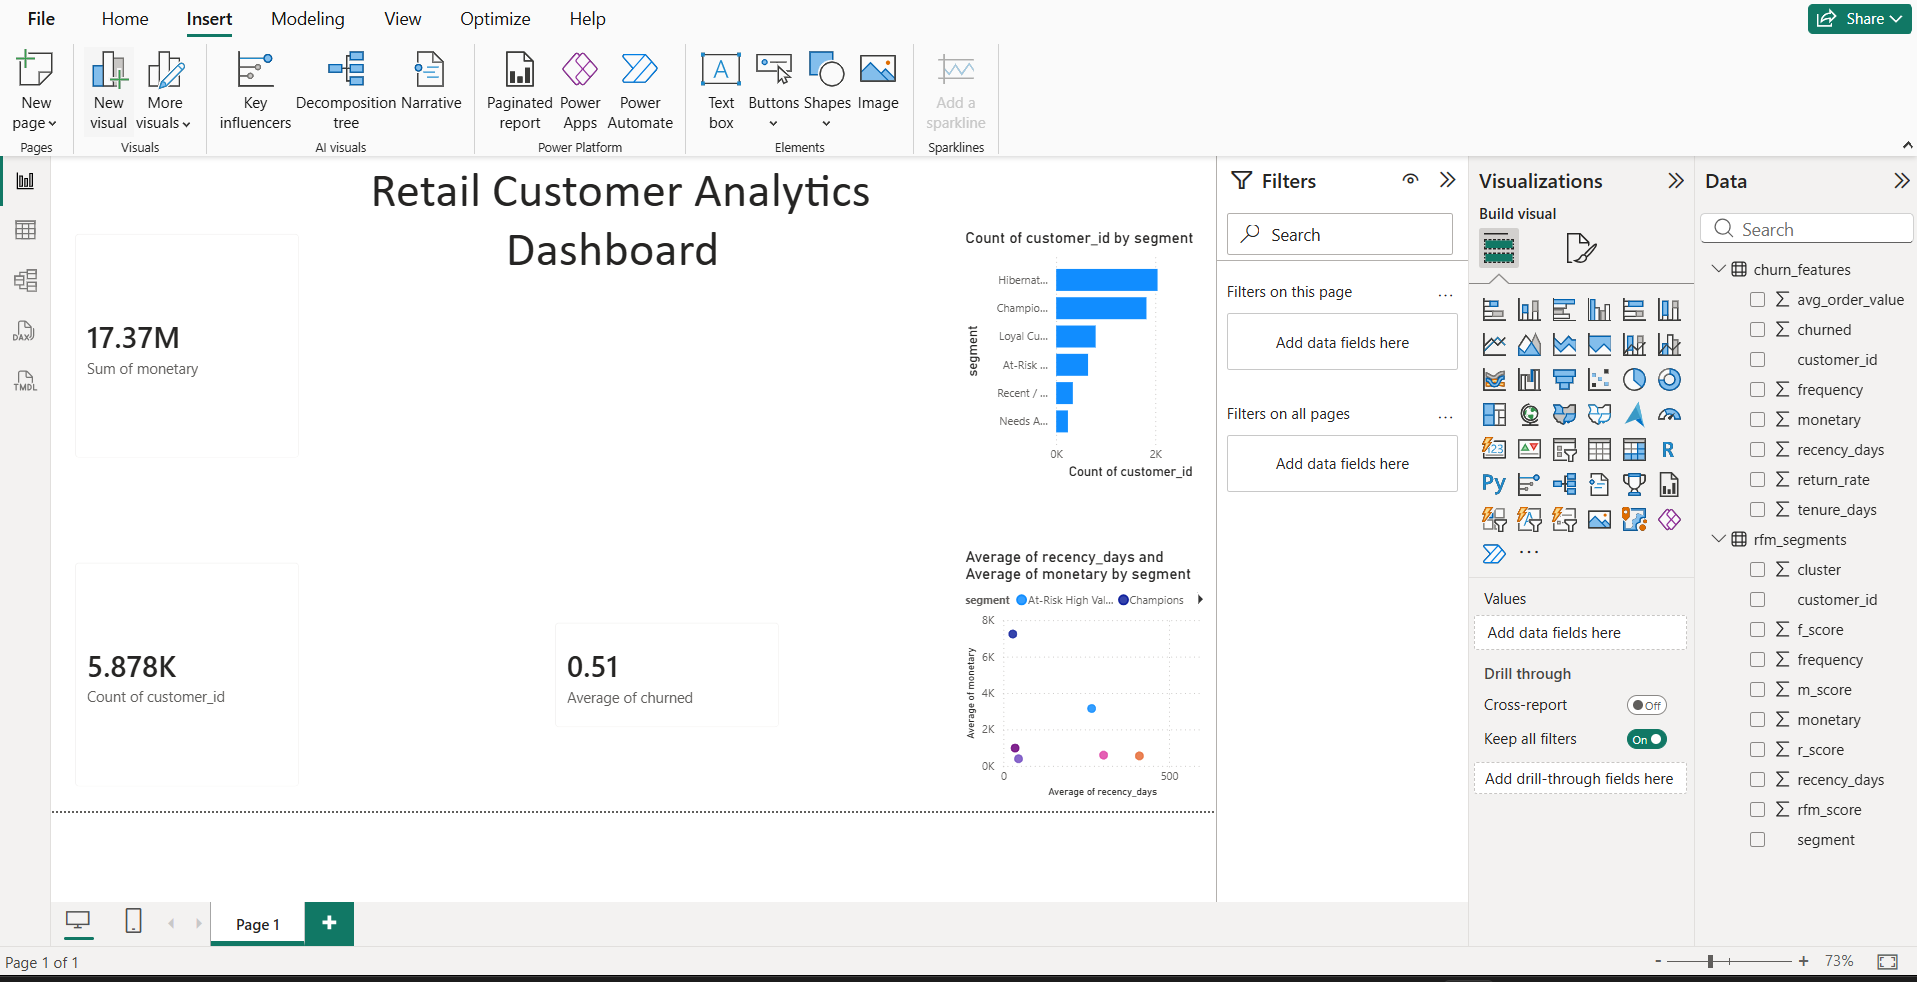

What the dashboard file says about the page in this screenshot:
{"tool":"powerbi","page":{"name":"Page 1","canvas":[1280,720],"ordinal":0},"visuals":[{"type":"cardVisual","fields":{"Data":["Sum(rfm_segments.monetary)"]},"box":[9.6,68.7,280.2,280.2],"z":0},{"type":"cardVisual","fields":{"Data":["CountNonNull(rfm_segments.customer_id)"]},"box":[9.6,430,280.2,280.2],"z":1},{"type":"cardVisual","fields":{"Data":["Avg(churn_features.churned)"]},"box":[537.1,495.9,280.2,149.7],"z":2},{"type":"clusteredBarChart","fields":{"Category":["rfm_segments.segment"],"Y":["Count(churn_features.customer_id)"]},"box":[1000,79.7,280.2,280.2],"z":3},{"type":"scatterChart","fields":{"X":["Avg(churn_features.recency_days)"],"Y":["Avg(rfm_segments.monetary)"],"Series":["rfm_segments.segment"]},"box":[1000,430,280.2,280.2],"z":4},{"type":"textbox","box":[289.8,0,710.2,280.2],"z":6}]}

Visuals, with their boxes on the page's 1280x720 design canvas (x1, y1, x2, y2). These are canvas units, not pixel positions in the 1917x982 screenshot, which may show the page scaled, cropped or inside an application window:
cardVisual - Sum(rfm_segments.monetary): {"left": 10, "top": 69, "right": 290, "bottom": 349}
cardVisual - CountNonNull(rfm_segments.customer_id): {"left": 10, "top": 430, "right": 290, "bottom": 710}
cardVisual - Avg(churn_features.churned): {"left": 537, "top": 496, "right": 817, "bottom": 646}
clusteredBarChart - rfm_segments.segment x Count(churn_features.customer_id): {"left": 1000, "top": 80, "right": 1280, "bottom": 360}
scatterChart - Avg(churn_features.recency_days) x Avg(rfm_segments.monetary): {"left": 1000, "top": 430, "right": 1280, "bottom": 710}
textbox: {"left": 290, "top": 0, "right": 1000, "bottom": 280}
